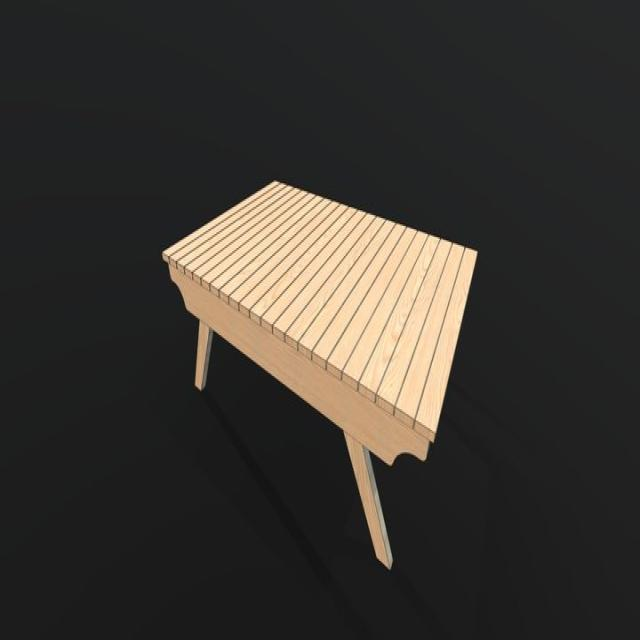table: (163, 178, 477, 574)
